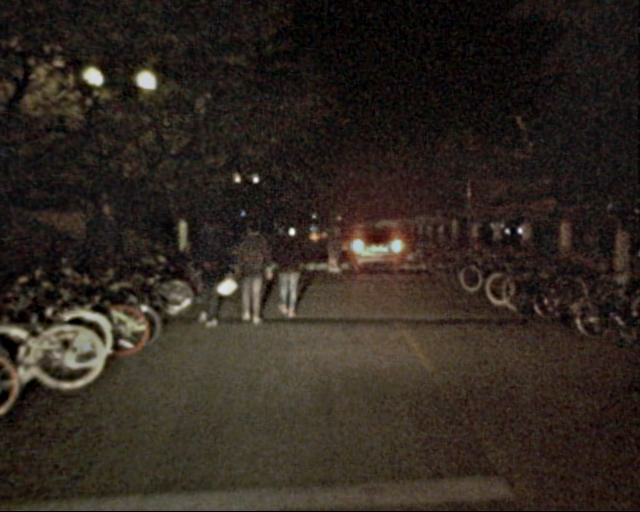person: (196, 212, 233, 325), (271, 214, 304, 321), (237, 224, 268, 325), (323, 227, 345, 273)
